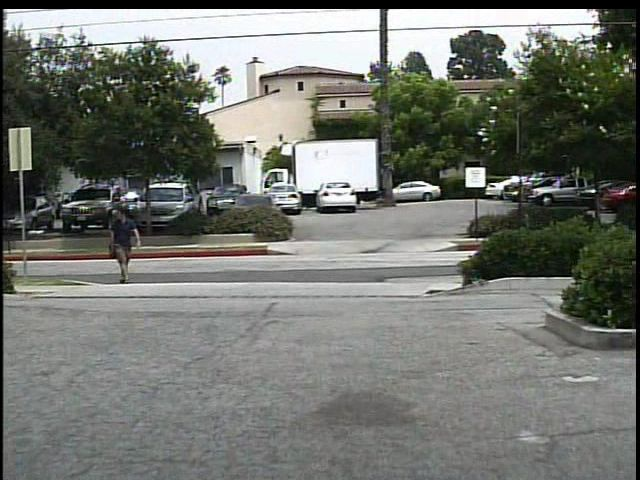person: (107, 202, 145, 284)
